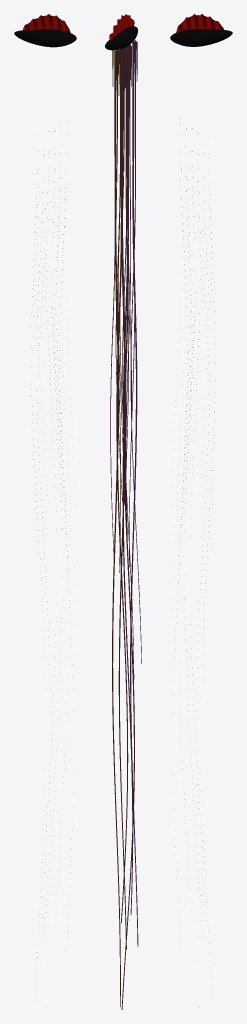
The model's file is man_o_war.glb.
The picture shows the model from 3 angles, left to right: view 1: azimuth 90°, elevation 25°; view 2: azimuth 150°, elevation 25°; view 3: azimuth 270°, elevation 25°; orthographic projection.
Parts seen in each view (by area): view 1: man_o_war; view 2: man_o_war; view 3: man_o_war.
Part boxes in pixels (x1,y1,x2,y2): man_o_war: (14,14,76,989); man_o_war: (105,14,141,1009); man_o_war: (170,14,232,1007).
Size of the model in its own units: 0.0925 by 4.38 by 0.25.
